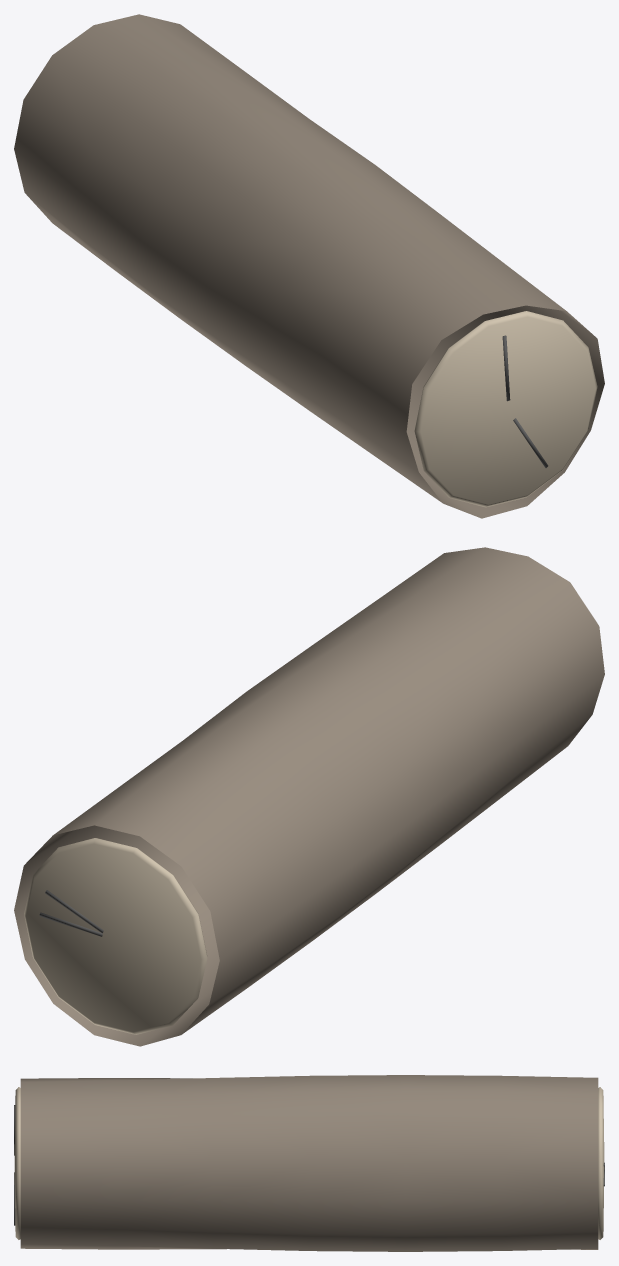
File: wp_log_2.glb
The picture shows the model from 3 angles, top to bottom: view 1: azimuth 30°, elevation 25°; view 2: azimuth 150°, elevation 25°; view 3: azimuth 270°, elevation 25°; orthographic projection. The views are drawn at different scales.
Parts seen in each view (by area): view 1: wp_log_2; view 2: wp_log_2; view 3: wp_log_2.
Part boxes in pixels (x1=…): wp_log_2: x1=14, y1=14, x2=604, y2=518; wp_log_2: x1=14, y1=547, x2=604, y2=1046; wp_log_2: x1=14, y1=1075, x2=604, y2=1251.
Bounding box in the file's own units: 0.1694 × 0.1679 × 0.563.
